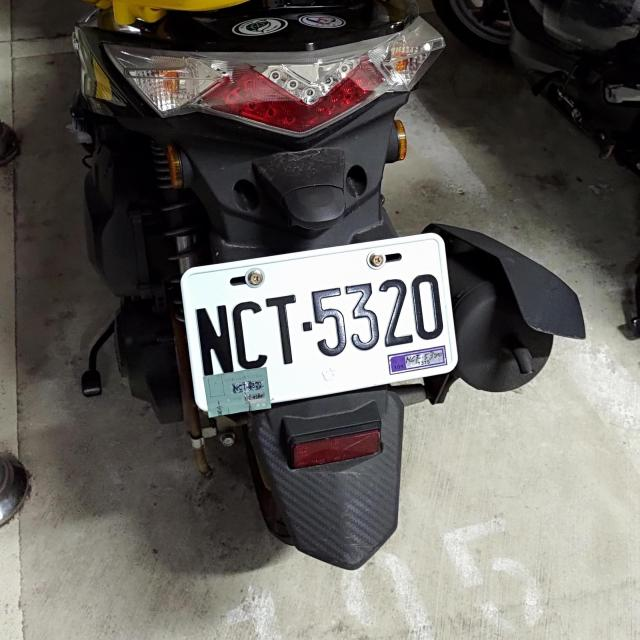W: (174, 235, 462, 410)
